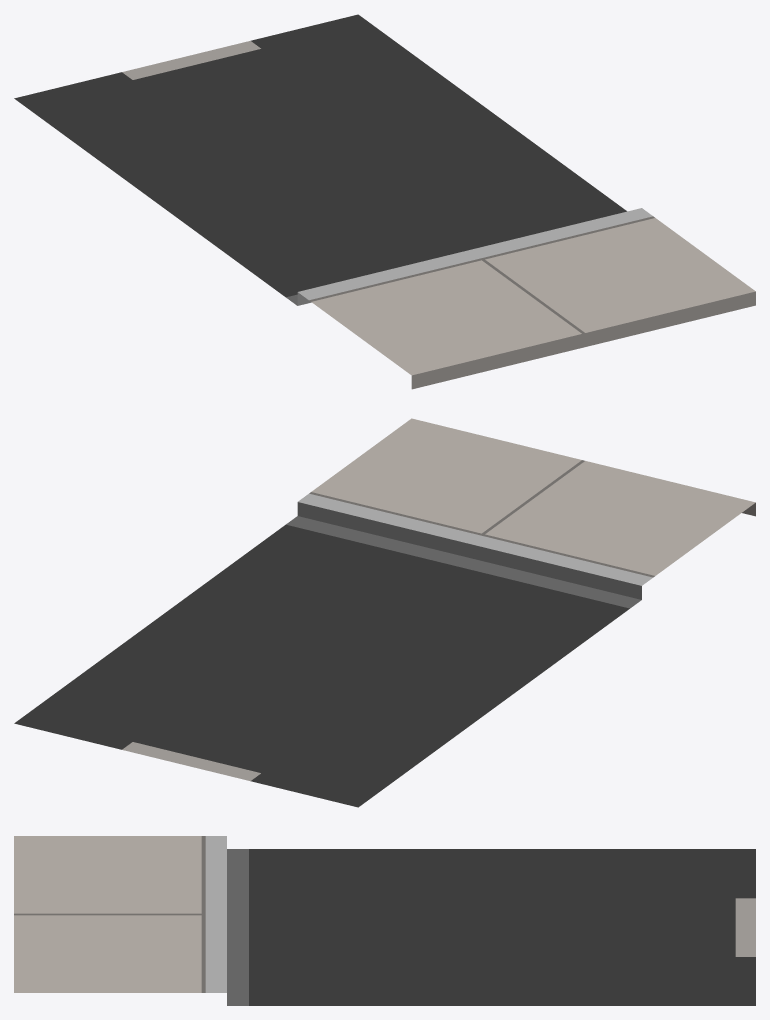
File: SA_Env_Road_Straight_01.fbx
3 renders of one model, top to bottom at view 1: azimuth 30°, elevation 25°; view 2: azimuth 150°, elevation 25°; view 3: azimuth 270°, elevation 25°, orthographic. The views are drawn at different scales.
Visible parts, largest first — view 1: SA_Env_Road_Straight_01; view 2: SA_Env_Road_Straight_01; view 3: SA_Env_Road_Straight_01.
Boxes of the visible parts, box(x1,y1,x2,y2) form: SA_Env_Road_Straight_01: box(14, 14, 755, 389); SA_Env_Road_Straight_01: box(14, 418, 755, 807); SA_Env_Road_Straight_01: box(14, 836, 755, 1005).
Bounding box in the file's own units: 5 × 0.1948 × 10.
Materials: 1 (1 with a texture image).
